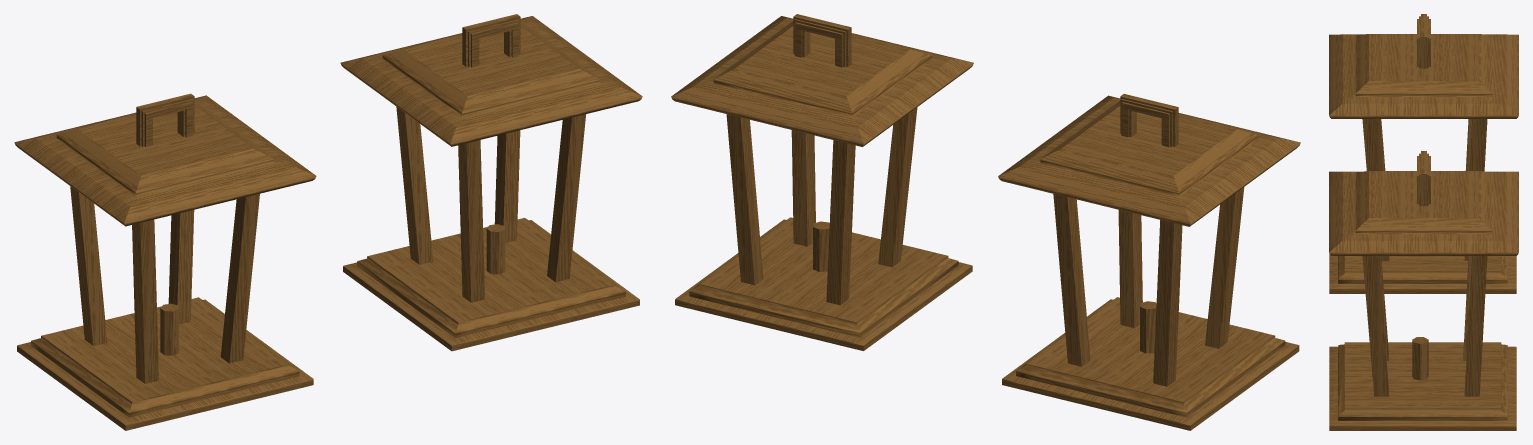
Rendered from LAMPARA.fbx.
The picture shows the model from 3 angles, left to right: view 1: azimuth 30°, elevation 25°; view 2: azimuth 150°, elevation 25°; view 3: azimuth 270°, elevation 25°; orthographic projection. The views are drawn at different scales.
Parts seen in each view (by area): view 1: lamp_1, lamp_0; view 2: lamp_0, lamp_1; view 3: lamp_1, lamp_0.
Part boxes in pixels (<box>): lamp_1: <box>340,14,642,351</box>; lamp_0: <box>14,93,316,430</box>; lamp_0: <box>998,94,1300,430</box>; lamp_1: <box>671,14,973,350</box>; lamp_1: <box>1329,151,1518,430</box>; lamp_0: <box>1329,14,1518,293</box>.
Size of the model in its own units: 13.77 by 6.76 by 5.07.
